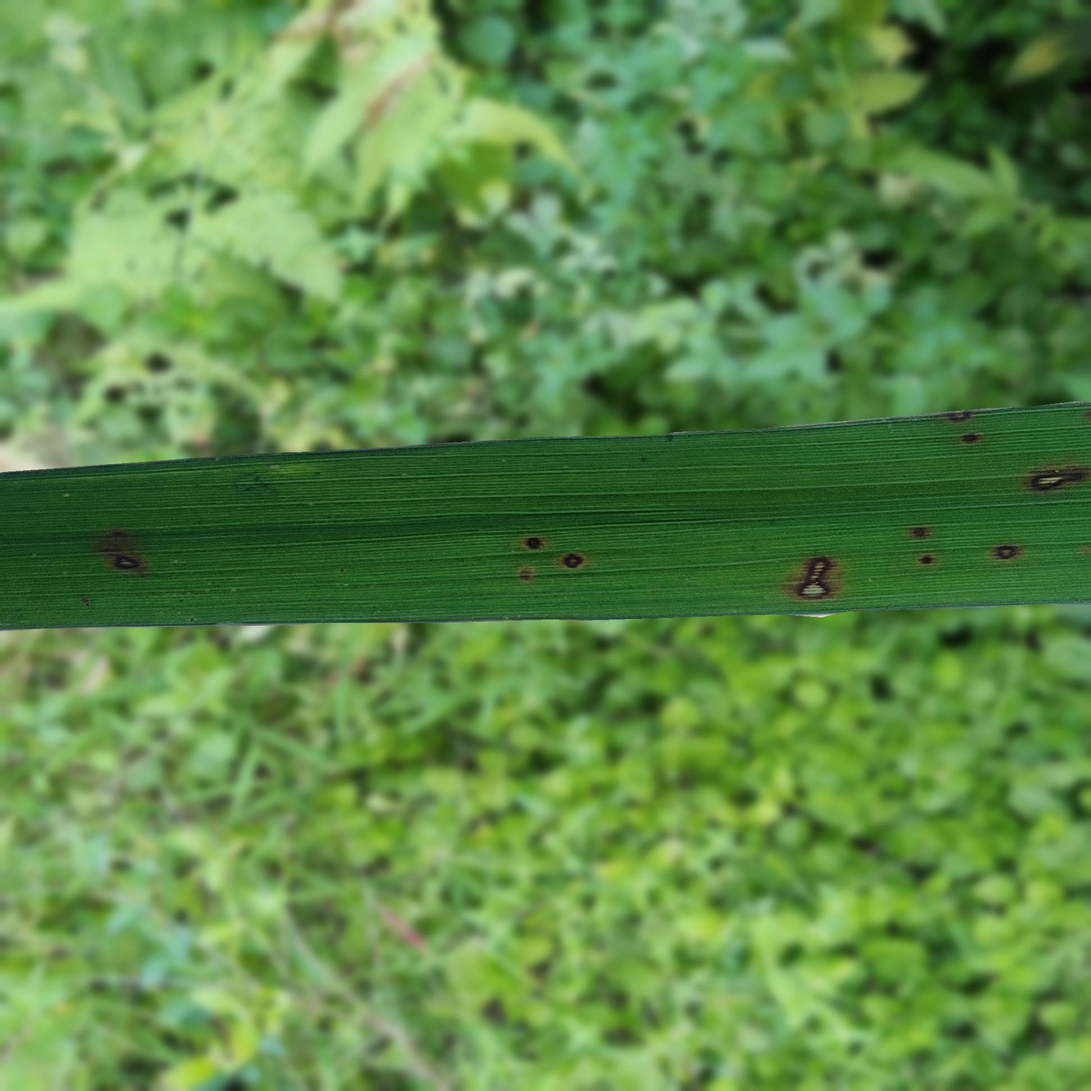LEAF BLAST: (1026, 465, 1090, 491), (794, 557, 833, 598), (110, 552, 141, 570), (992, 544, 1021, 560), (561, 552, 585, 569), (948, 411, 972, 422)
